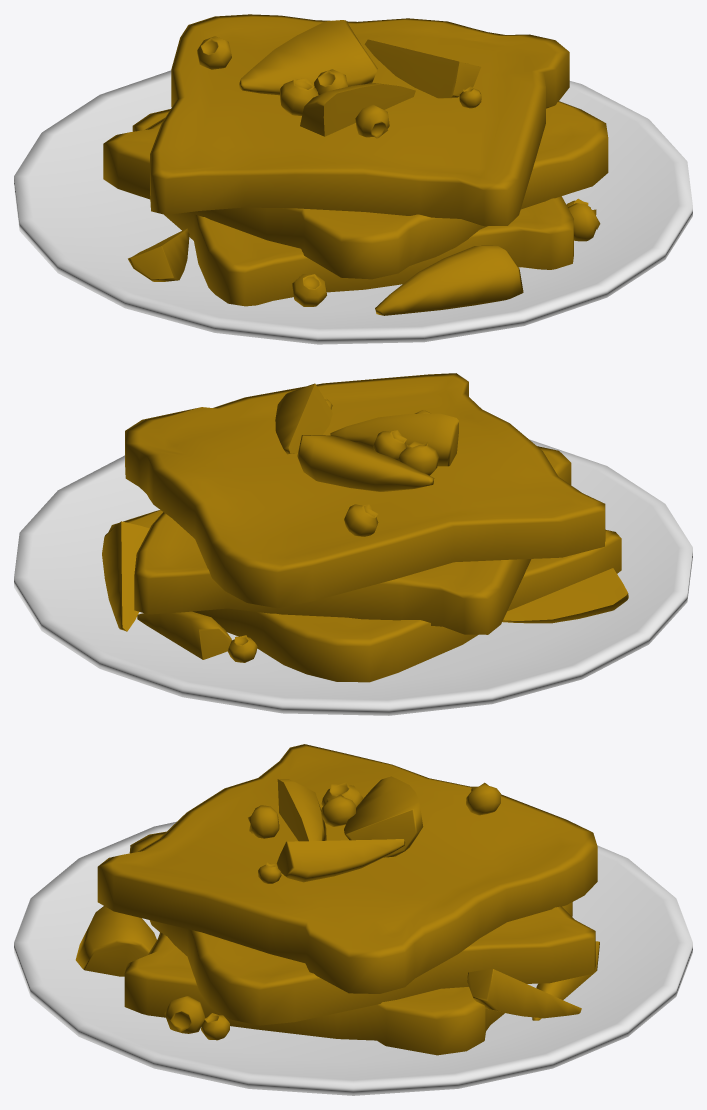
Rendered from FrenchToastUpdate.fbx.
3 renders of one model, top to bottom at view 1: azimuth 30°, elevation 25°; view 2: azimuth 150°, elevation 25°; view 3: azimuth 270°, elevation 25°, orthographic.
Parts seen in each view (by area): view 1: Toast3, Plate1, Toast1, Toast, StrawberryHalf, StrawberryHalf1, StrawberryQuarter1, StrawberryQuarter, StrawberryQuarter2, Blueberry, Blueberry7, Blueberry2 (+3 smaller); view 2: Toast3, Plate1, Toast1, Toast, StrawberryHalf1, StrawberryQuarter2, StrawberryQuarter, StrawberryQuarter4, StrawberryQuarter3, StrawberryQuarter1, Blueberry, Blueberry2 (+2 smaller); view 3: Toast3, Plate1, Toast1, Toast, StrawberryHalf1, StrawberryHalf, StrawberryQuarter1, StrawberryQuarter4, StrawberryQuarter, Blueberry8, Blueberry2, Blueberry3 (+4 smaller).
Boxes of the visible parts, bbox=[...] form: Toast3: bbox=[150, 14, 569, 226]; Plate1: bbox=[14, 70, 692, 344]; Toast1: bbox=[103, 101, 608, 279]; Toast: bbox=[132, 109, 573, 306]; StrawberryHalf: bbox=[375, 245, 523, 315]; StrawberryHalf1: bbox=[239, 20, 377, 95]; StrawberryQuarter1: bbox=[364, 39, 480, 98]; StrawberryQuarter: bbox=[300, 83, 415, 136]; StrawberryQuarter2: bbox=[128, 228, 189, 281]; Blueberry: bbox=[280, 78, 318, 115]; Blueberry7: bbox=[292, 274, 326, 306]; Blueberry2: bbox=[197, 36, 231, 69]; Toast3: bbox=[125, 373, 605, 608]; Plate1: bbox=[14, 439, 692, 715]; Toast1: bbox=[134, 446, 571, 634]; Toast: bbox=[108, 510, 621, 682]; StrawberryHalf1: bbox=[297, 435, 434, 491]; StrawberryQuarter2: bbox=[502, 568, 628, 623]; StrawberryQuarter: bbox=[330, 413, 458, 466]; StrawberryQuarter4: bbox=[102, 521, 149, 631]; StrawberryQuarter3: bbox=[137, 611, 231, 659]; StrawberryQuarter1: bbox=[275, 383, 332, 454]; Blueberry: bbox=[398, 441, 438, 475]; Blueberry2: bbox=[344, 504, 378, 536]; Toast3: bbox=[97, 744, 597, 993]; Plate1: bbox=[14, 821, 692, 1095]; Toast1: bbox=[129, 831, 595, 1025]; Toast: bbox=[124, 902, 572, 1055]; StrawberryHalf1: bbox=[344, 776, 423, 857]; StrawberryHalf: bbox=[75, 906, 156, 976]; StrawberryQuarter1: bbox=[276, 839, 405, 882]; StrawberryQuarter4: bbox=[467, 968, 581, 1018]; StrawberryQuarter: bbox=[277, 779, 326, 841]; Blueberry8: bbox=[164, 996, 205, 1033]; Blueberry2: bbox=[466, 782, 500, 815]; Blueberry3: bbox=[248, 805, 279, 838].
Size of the model in its own units: 21.17 by 6.17 by 21.17.
